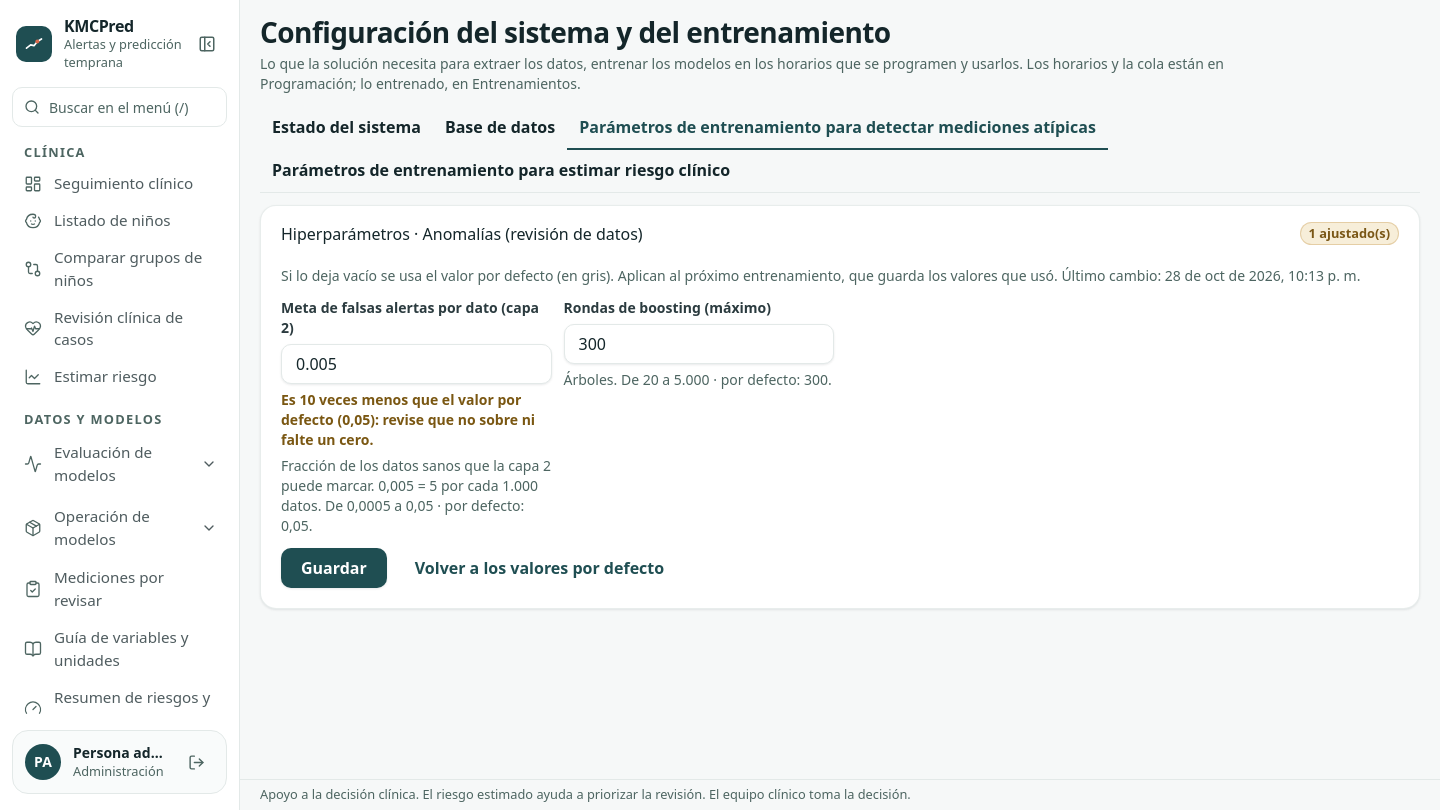
Scenario: administración de las ejecuciones › configuración: la meta de falsas alertas se lee en su unidad y avisa si se aleja 10 veces del valor por defecto
The width and height of the screenshot is (1440, 810).
Expected: the text "Si lo deja vacío se usa el valor por defecto (en gris)" is shown, [281,266,1058,285]
Expected: the text "10 veces menos que el valor por defecto (0,05)" is shown, [281,390,535,449]
Replace the text in the number field labelled "Meta de falsas alertas por dato (capa 2)" with "0.05" at (416, 364), box [281,344,552,384]
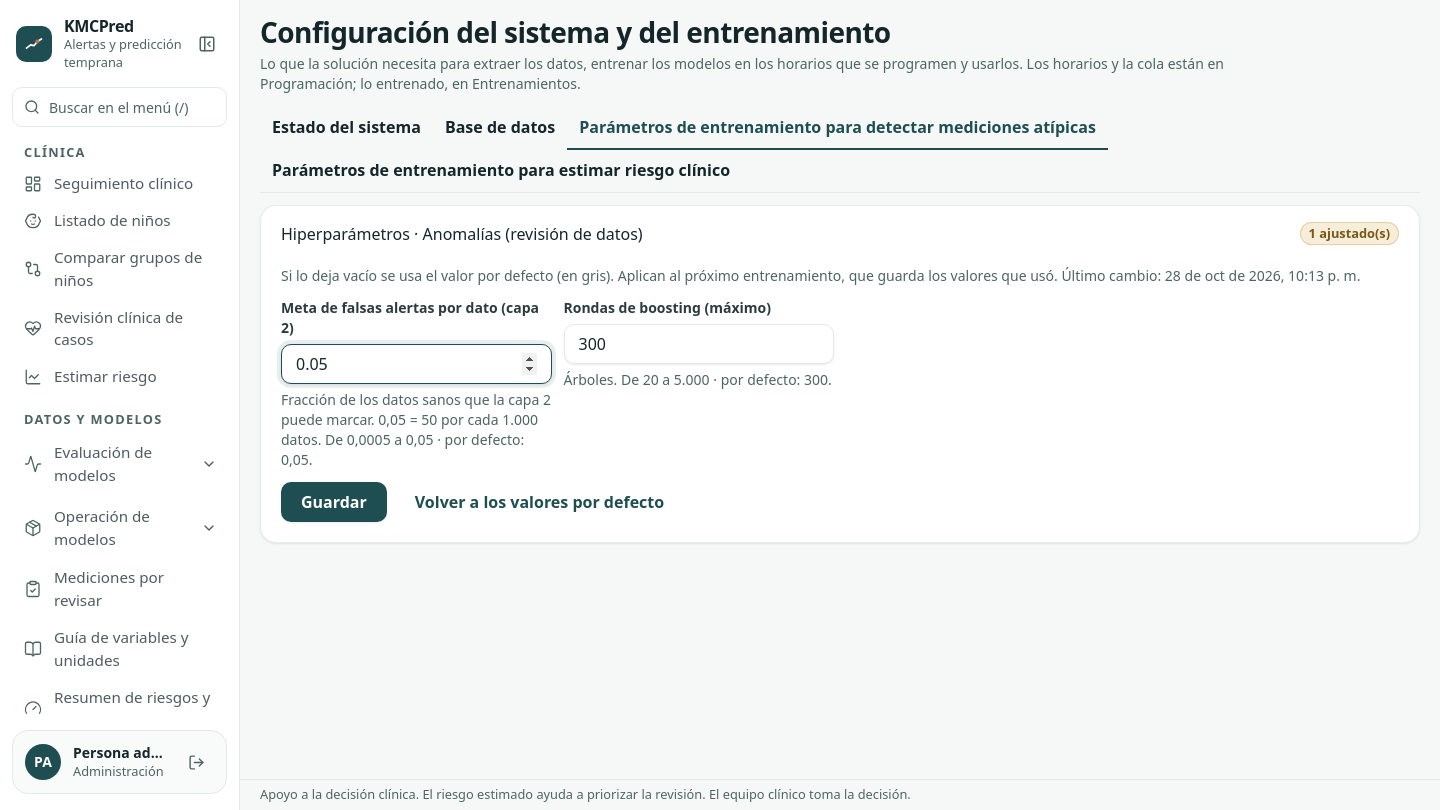
Now the text "0,05 = 50 por cada 1.000 datos" is shown, box [281,390,551,469]
Click the button "Volver a los valores por defecto" at (540, 502), box [395,482,684,522]
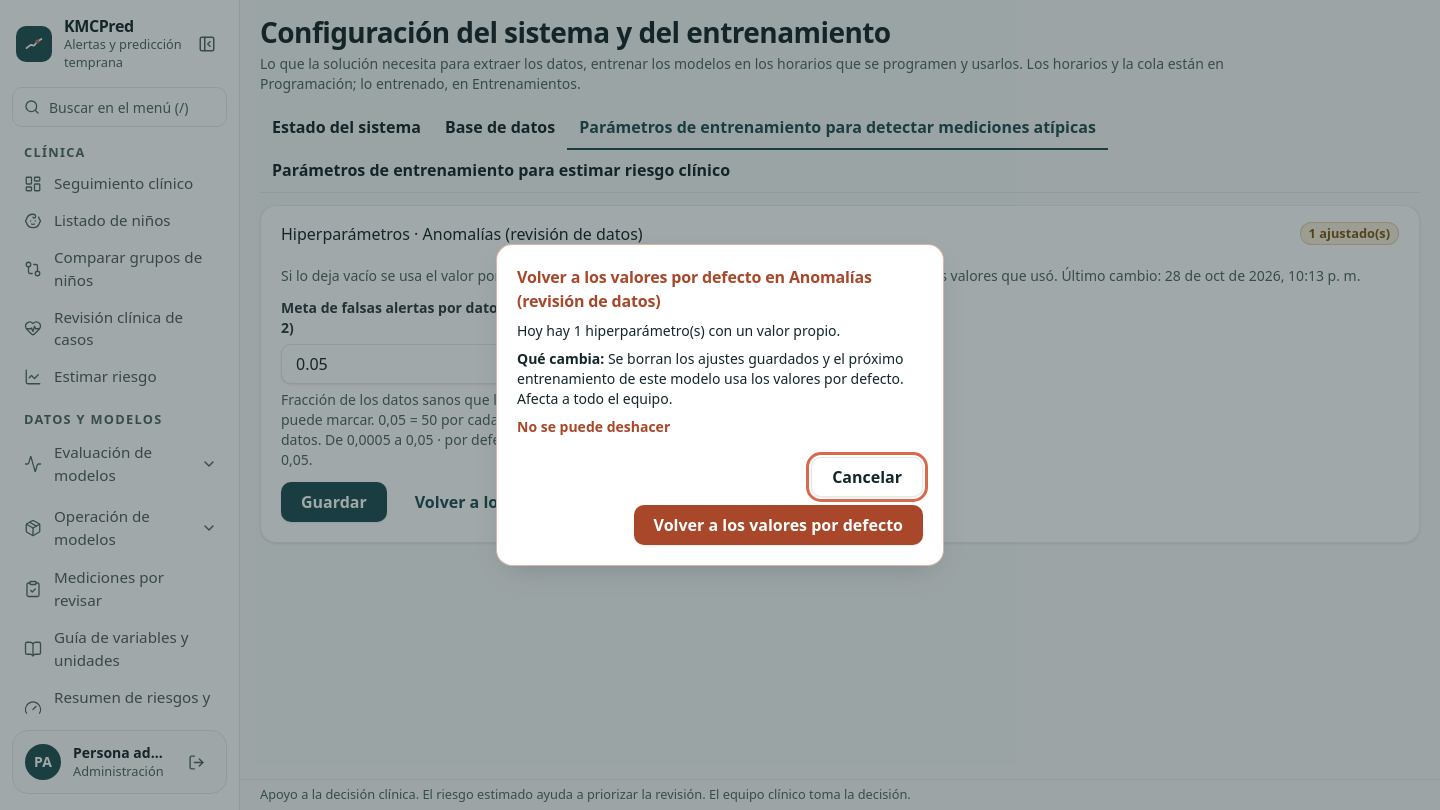
Now the dialog shows "No se puede deshacer", box [517,417,670,436]
Click the button "Cancelar" at (867, 477), box [811,457,923,497]
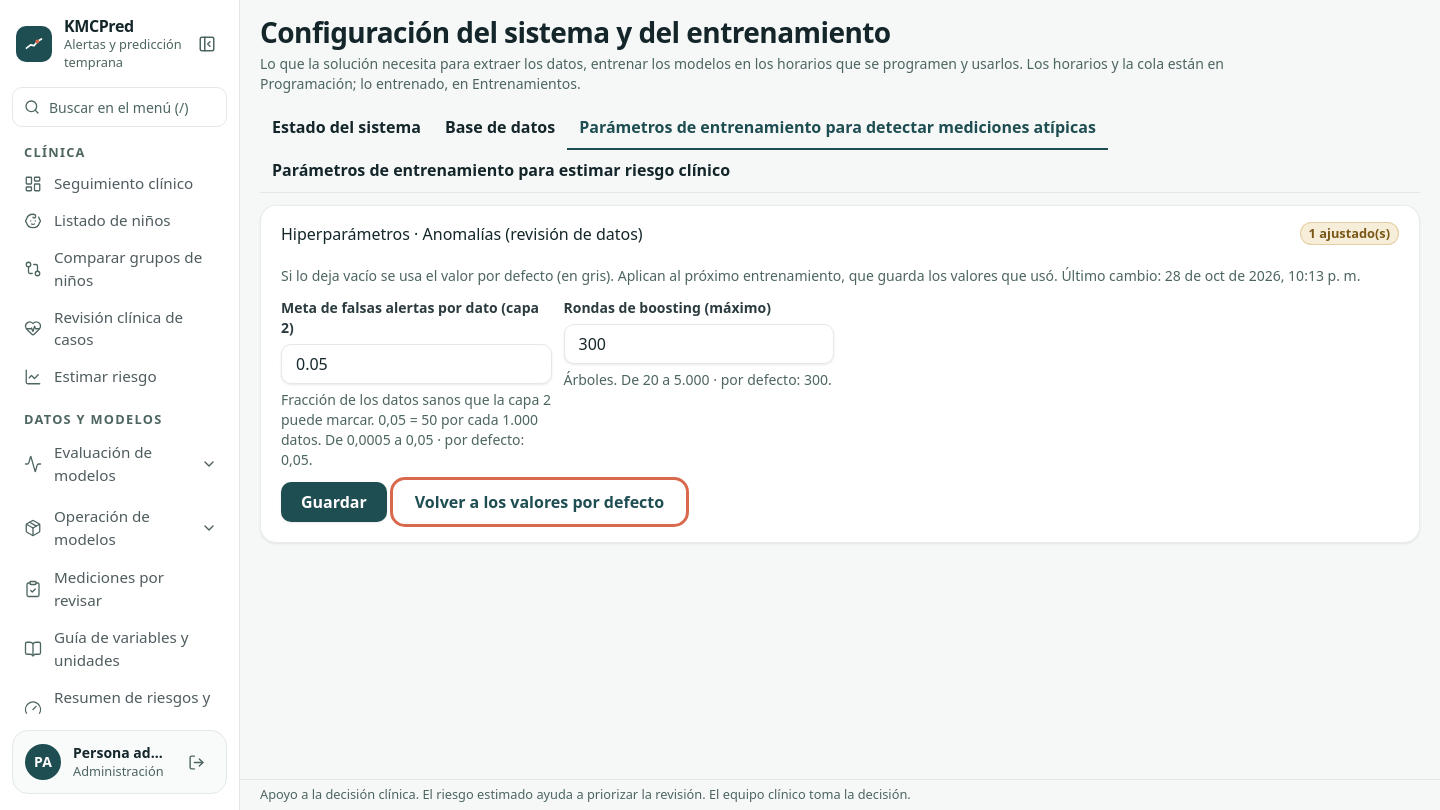
Now the dialog is gone
